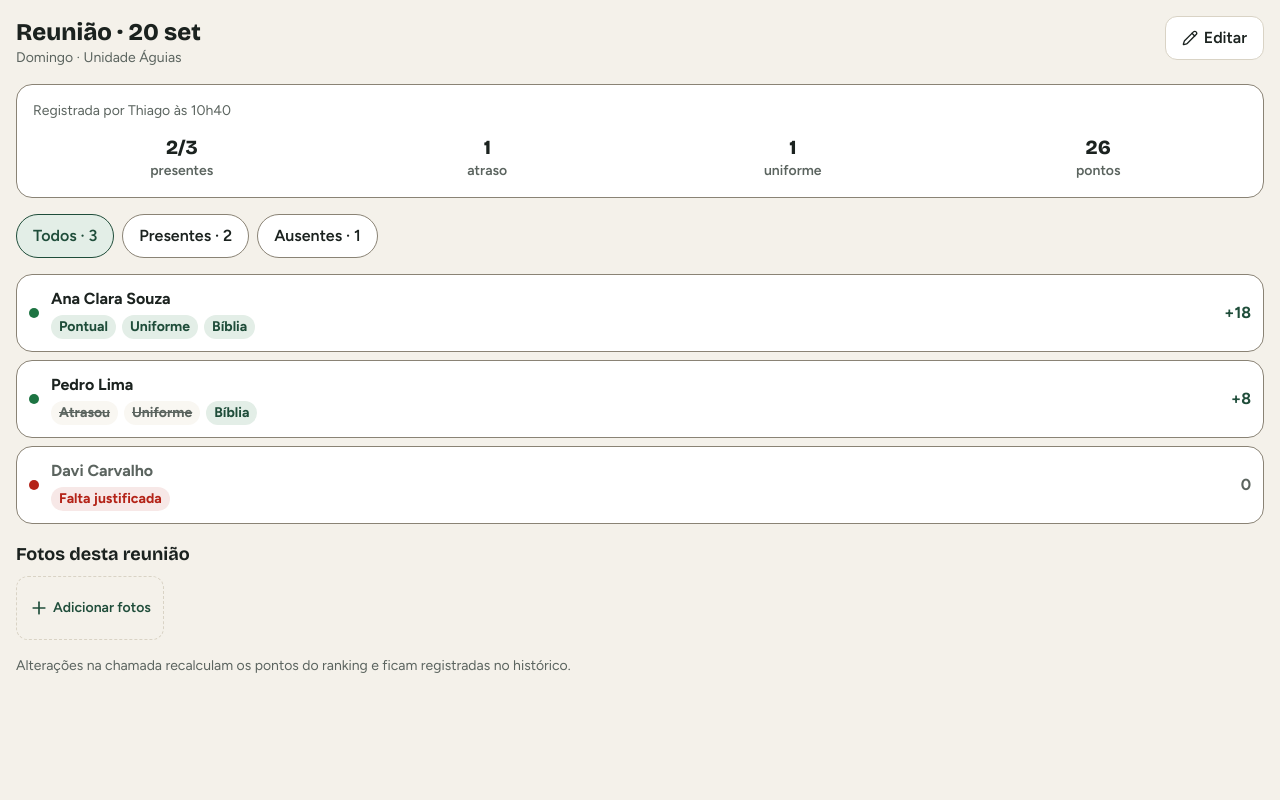
Test: Detalhe da reunião › filtra por Presentes e Ausentes com as contagens nos botões
Expected: the text "Ana Clara Souza" is shown, [51, 289, 171, 308]
Click the button "Ausentes · 1": (317, 236) [257, 214, 378, 258]
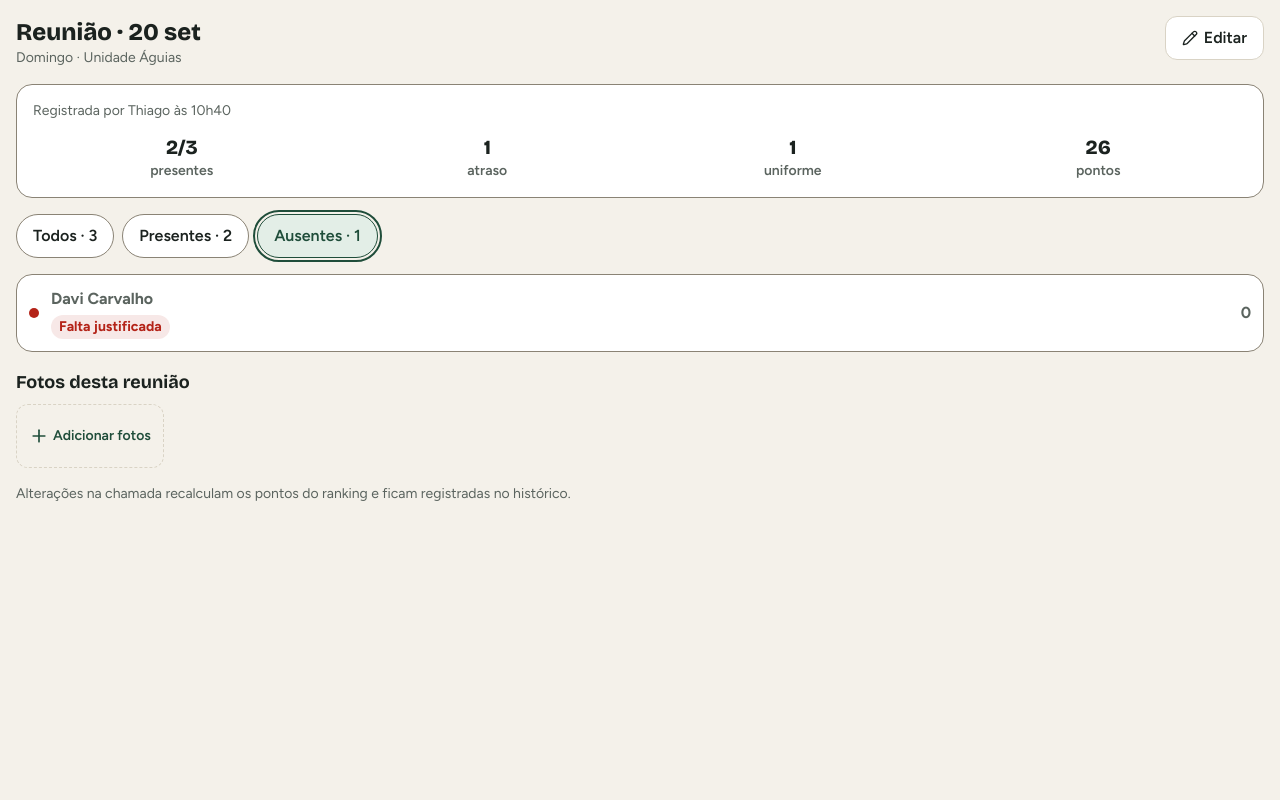
Expected: the text "Davi Carvalho" is shown, [51, 289, 153, 308]
Now the text "Ana Clara Souza" is gone
Click the button "Presentes · 2": (186, 236) [122, 214, 249, 258]
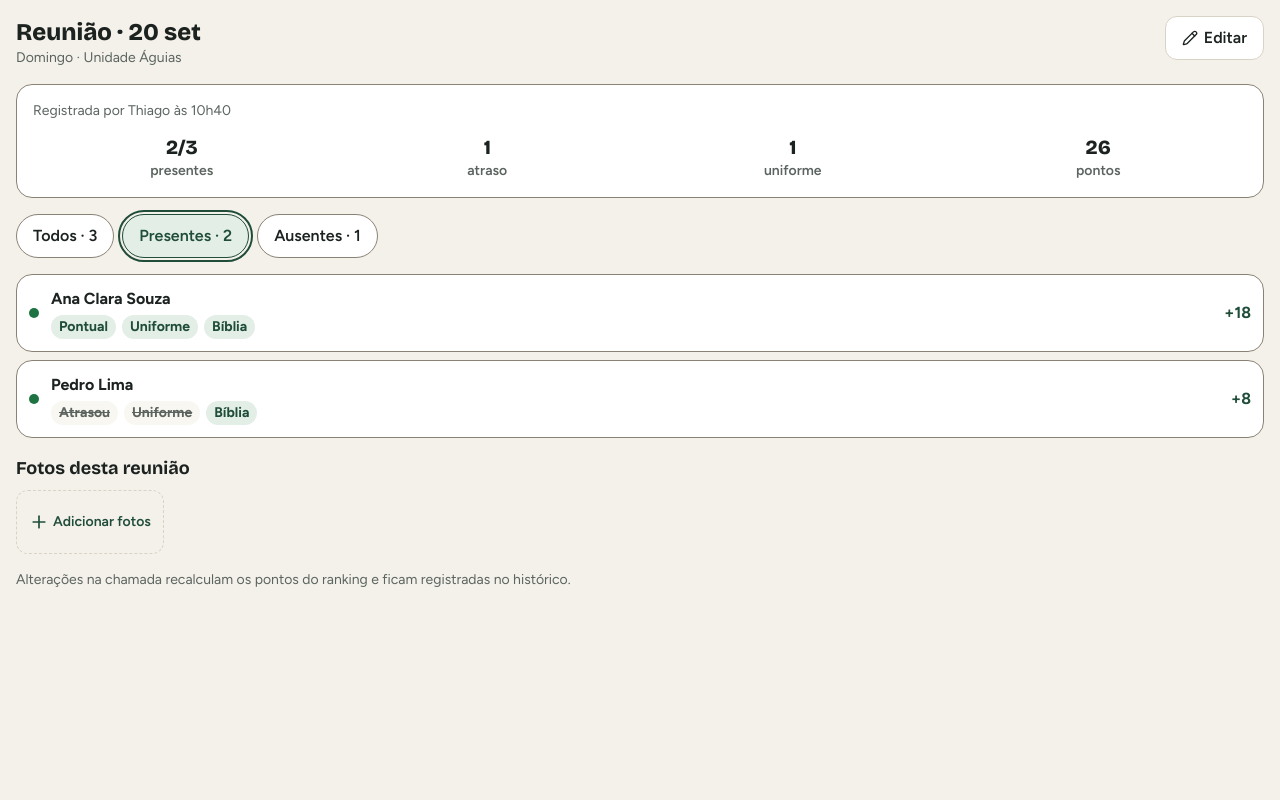
Now the text "Pedro Lima" is shown, box [51, 375, 133, 394]
Now the text "Davi Carvalho" is gone
